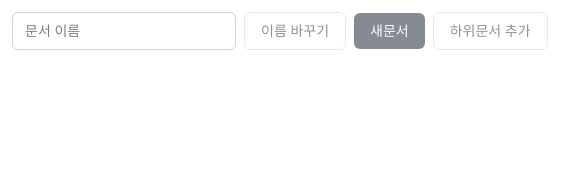
it: DocumentToolbar — RequireRole 단일 게이트 생성·이름변경 › 선택이 없으면 이름 바꾸기·하위문서 추가는 비활성화된다 (Req 4.1)
This screenshot has width=565, height=172.
Note: 입력에 값이 있어도 선택이 없으면 이름 바꾸기/하위문서 추가는 대상이 없어 비활성화.
In the field labelled "문서 이름": [124, 31] box [12,12,236,50], type "무언가"
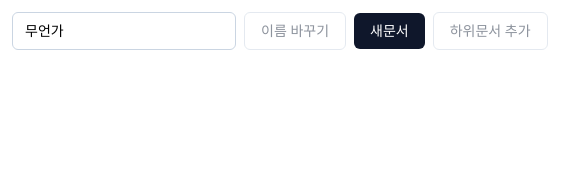
Check: the button "이름 바꾸기" is disabled, box [244,12,346,50]
Check: the button "새문서" is enabled, box [354,13,425,49]
